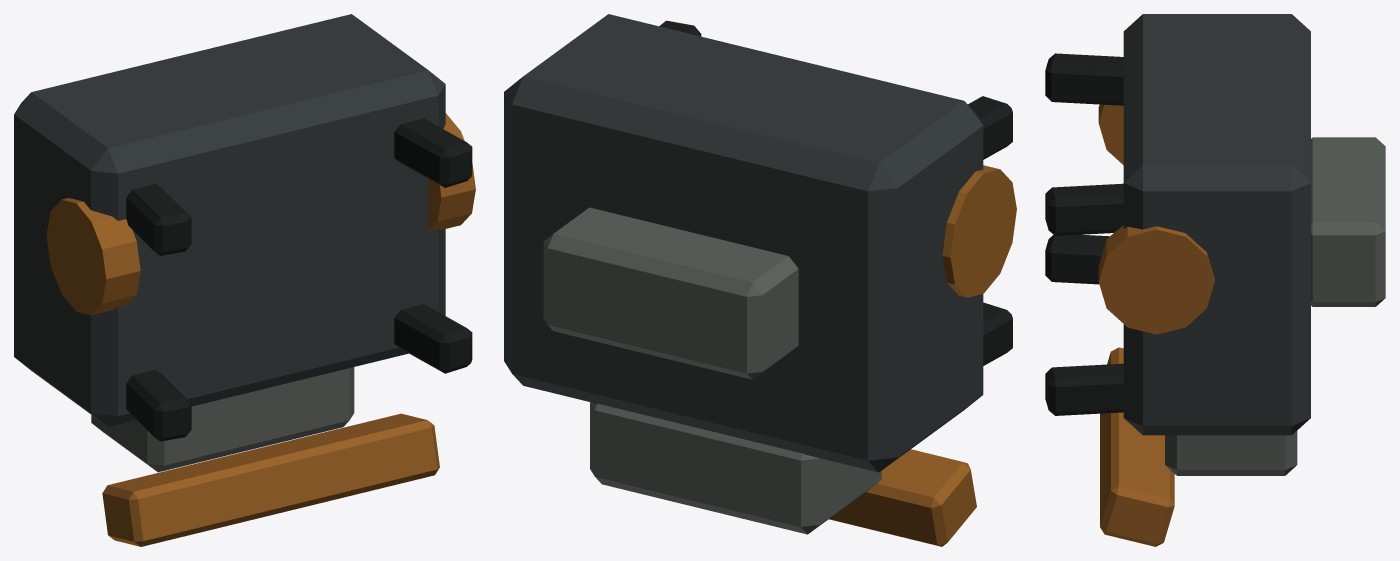
Rendered from Railbreaker.glb.
The picture shows the model from 3 angles, left to right: view 1: azimuth 30°, elevation 25°; view 2: azimuth 150°, elevation 25°; view 3: azimuth 270°, elevation 25°; orthographic projection. The views are drawn at different scales.
Parts seen in each view (by area): view 1: Body, Cowcatcher, Head, WheelL, FrontRightLeg, BackRightLeg, FrontLeftLeg, BackLeftLeg, WheelR; view 2: Body, RailHammer, Head, Cowcatcher, WheelL, BackLeftLeg, FrontLeftLeg; view 3: Body, RailHammer, WheelR, Cowcatcher, Head, BackLeftLeg, FrontRightLeg, BackRightLeg, FrontLeftLeg, WheelL.
Boxes of the visible parts, <box> form: Body: <box>14,14,445,426</box>; Cowcatcher: <box>102,413,439,546</box>; Head: <box>91,367,354,472</box>; WheelL: <box>46,198,140,315</box>; FrontRightLeg: <box>394,304,472,373</box>; BackRightLeg: <box>394,118,472,187</box>; FrontLeftLeg: <box>126,369,191,441</box>; BackLeftLeg: <box>126,184,191,255</box>; WheelR: <box>428,113,475,230</box>; Body: <box>504,14,983,472</box>; RailHammer: <box>543,207,798,379</box>; Head: <box>590,402,881,534</box>; Cowcatcher: <box>829,449,976,546</box>; WheelL: <box>942,165,1016,297</box>; BackLeftLeg: <box>968,96,1012,159</box>; FrontLeftLeg: <box>983,302,1012,365</box>; Body: <box>1123,14,1310,435</box>; RailHammer: <box>1311,137,1385,306</box>; WheelR: <box>1098,225,1214,334</box>; Cowcatcher: <box>1100,347,1174,546</box>; Head: <box>1165,431,1297,475</box>; BackLeftLeg: <box>1045,53,1123,105</box>; FrontRightLeg: <box>1045,363,1123,415</box>; BackRightLeg: <box>1045,183,1123,235</box>; FrontLeftLeg: <box>1045,234,1109,284</box>; WheelL: <box>1098,104,1123,164</box>.
Size of the model in its own units: 7.5 by 7.76 by 6.17.
1 material, 1 textured.
